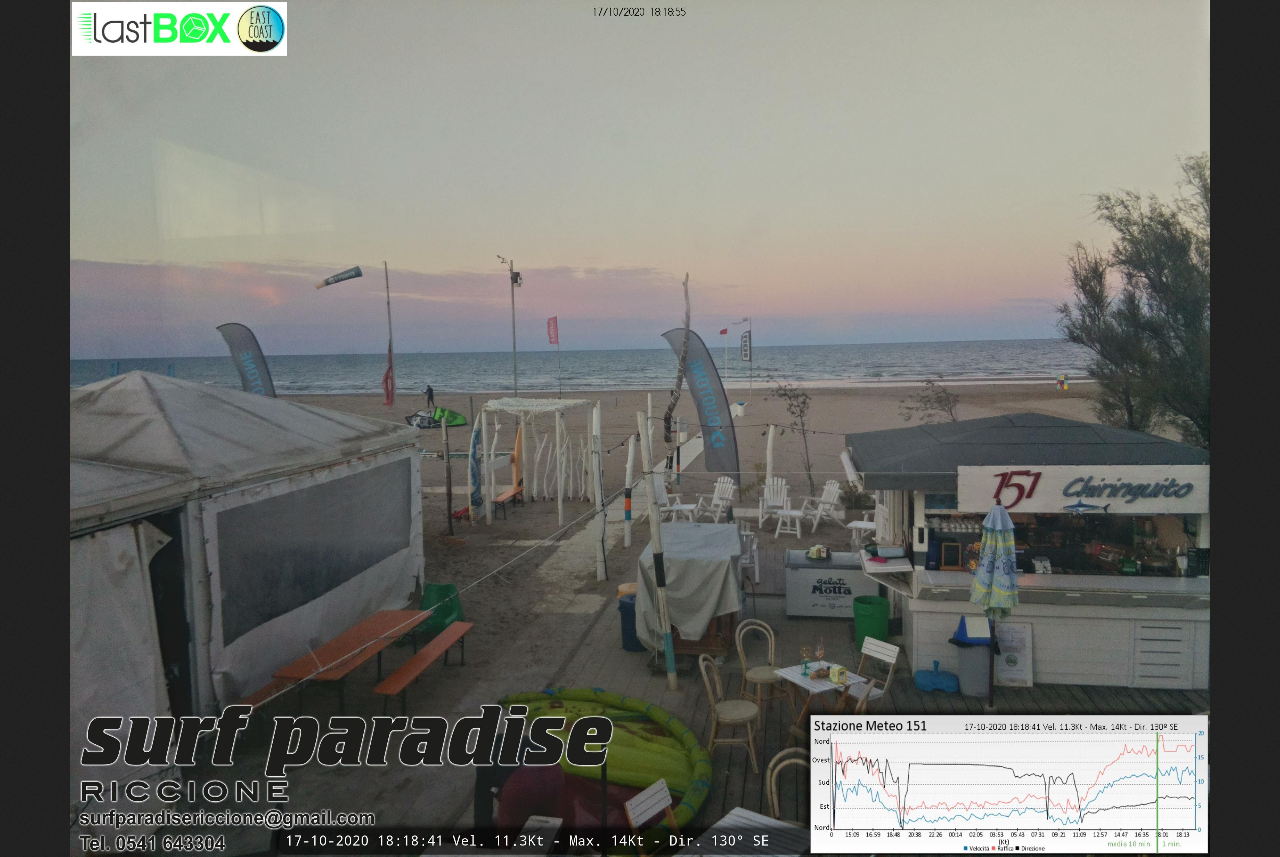yes: (543, 310, 563, 348), (739, 326, 756, 365), (718, 324, 730, 337)
